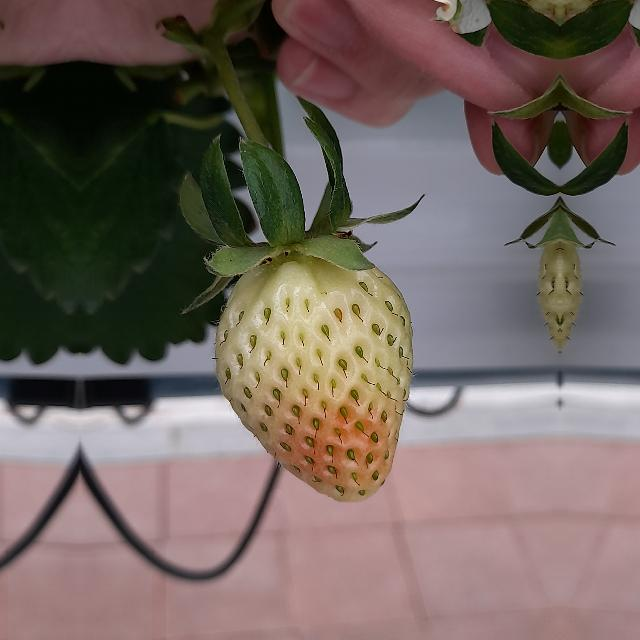Health_50: (215, 249, 413, 501)
